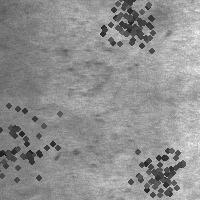rolled-in_scale: (0, 90, 67, 200), (113, 129, 197, 200), (63, 38, 139, 99), (89, 0, 165, 60), (72, 111, 134, 169)
